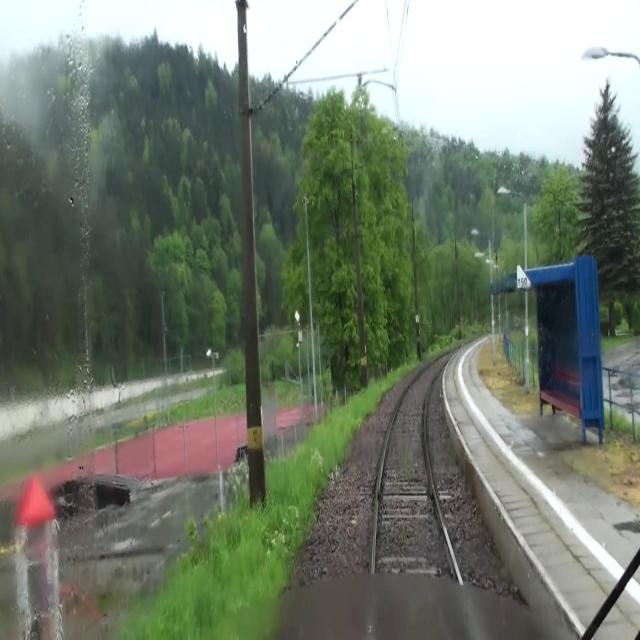rail-track: (372, 347, 475, 639)
